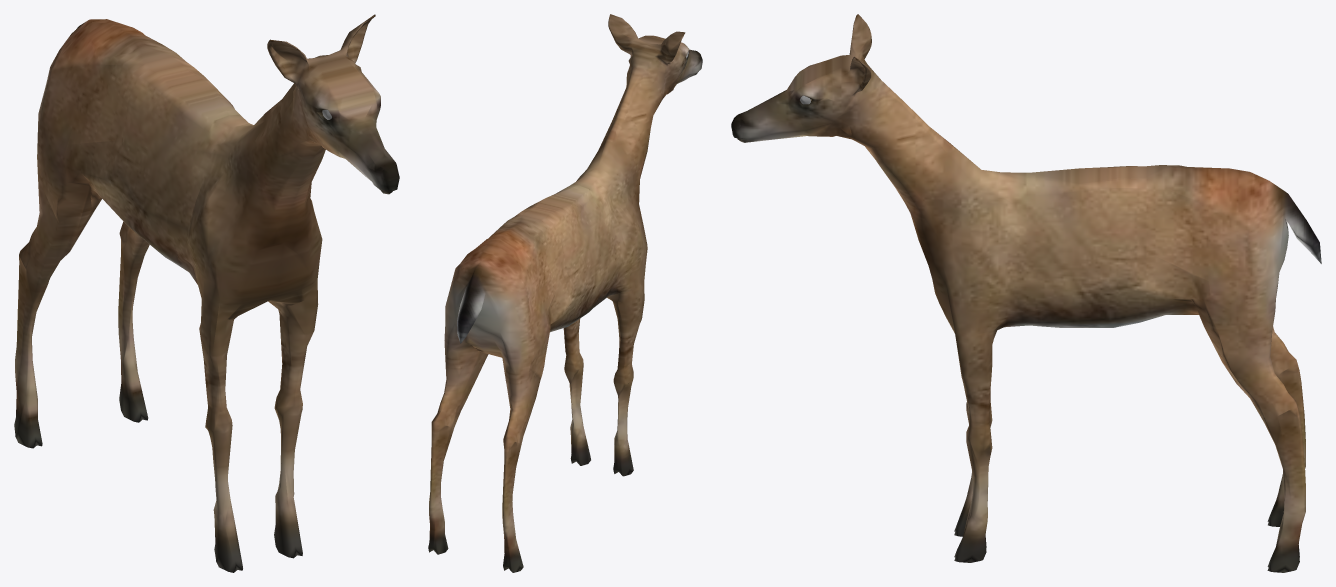
The model's file is doe.glb.
3 renders of one model, left to right at view 1: azimuth 30°, elevation 25°; view 2: azimuth 150°, elevation 25°; view 3: azimuth 270°, elevation 25°, orthographic. The views are drawn at different scales.
Visible parts, largest first — view 1: Object_7; view 2: Object_7; view 3: Object_7.
Part boxes in pixels (box(x1,y1,x2,y2)): Object_7: box(14, 14, 399, 572); Object_7: box(428, 14, 702, 572); Object_7: box(731, 14, 1321, 572).
Size of the model in its own units: 0.5531 by 2.38 by 2.5.
Materials: 3 (3 with a texture image).
